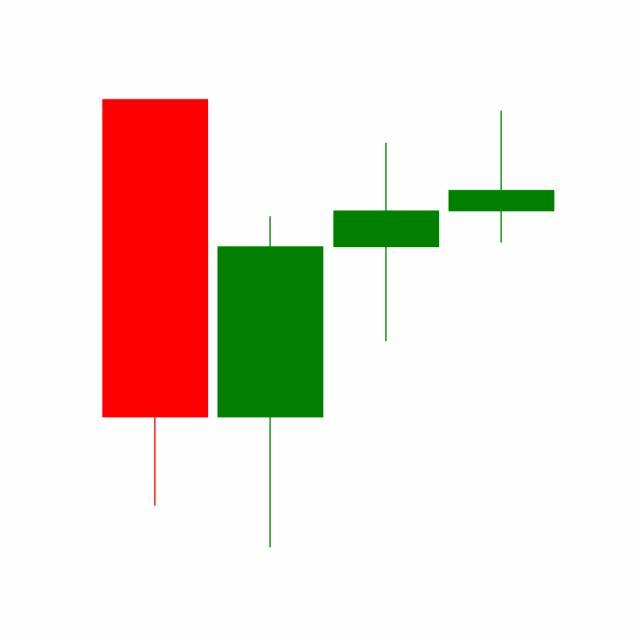Spinning Top: (329, 141, 445, 345)
